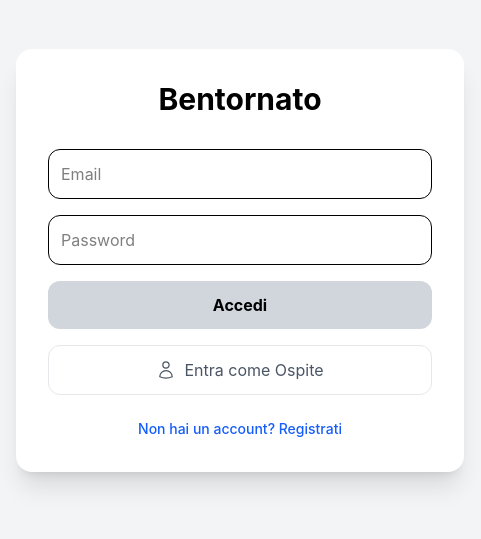
AuthScreen › toggle a modalità registrazione mostra campi nome e cognome
Expected: the field with placeholder "nome" is not shown
Expected: the field with placeholder "cognome" is not shown
# Toggle alla registrazione
Click the button "Non hai un account? Registrati".
click(240, 428)  # box [48, 418, 432, 438]
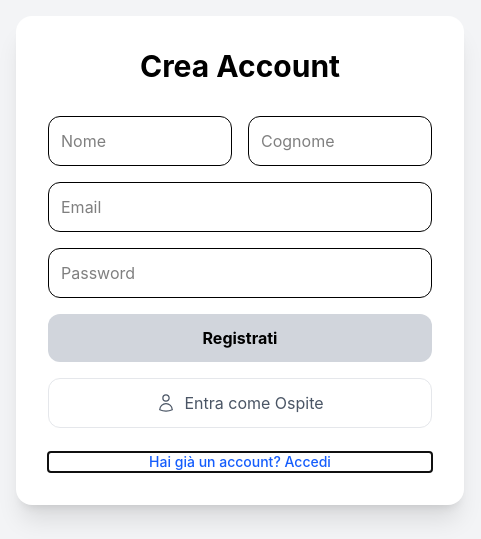
Now the field with placeholder "Nome" is shown, box [48, 116, 232, 166]
Now the field with placeholder "Cognome" is shown, box [248, 116, 432, 166]
Now the heading "Crea Account" is shown, box [140, 48, 340, 84]
